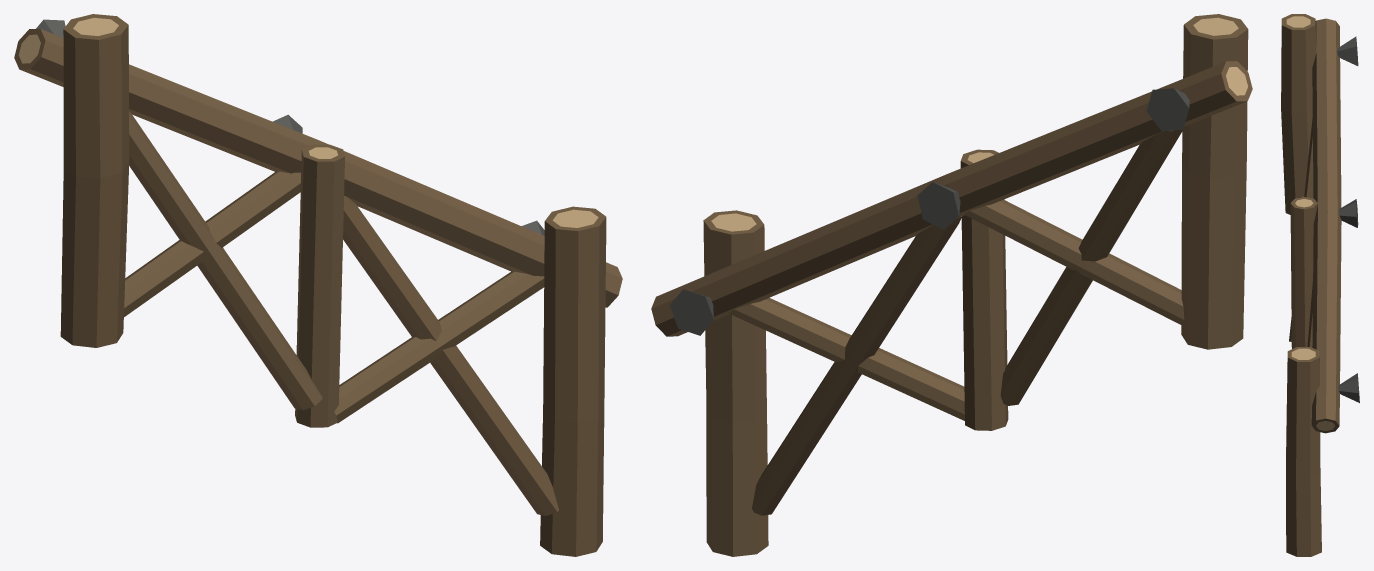
The model's file is rpgpp_ag_wall_platform_stairs_02a_2m_handrail_01.fbx.
3 views of the same model, side by side, from view 1: azimuth 30°, elevation 25°; view 2: azimuth 150°, elevation 25°; view 3: azimuth 270°, elevation 25° (orthographic). The views are drawn at different scales.
Visible parts, largest first — view 1: rpgpp_ag_wall_platform_stairs_02a_2m_handrail_01; view 2: rpgpp_ag_wall_platform_stairs_02a_2m_handrail_01; view 3: rpgpp_ag_wall_platform_stairs_02a_2m_handrail_01.
Boxes of the visible parts, bbox=[...] form: rpgpp_ag_wall_platform_stairs_02a_2m_handrail_01: bbox=[14, 14, 622, 556]; rpgpp_ag_wall_platform_stairs_02a_2m_handrail_01: bbox=[651, 14, 1252, 556]; rpgpp_ag_wall_platform_stairs_02a_2m_handrail_01: bbox=[1281, 14, 1359, 556].
Size of the model in its own units: 3.23 by 3.28 by 0.6083.
